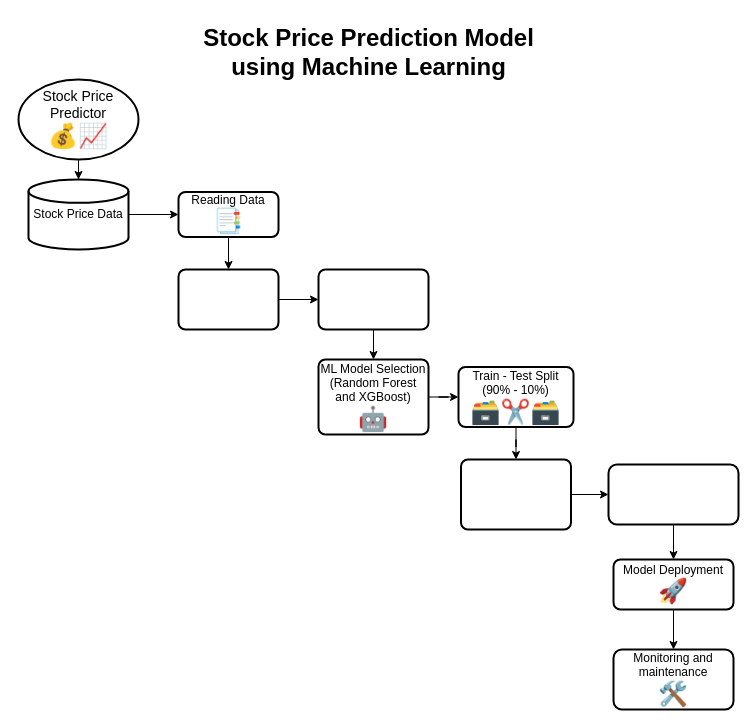
The diagram is 756 pixels wide and 727 high, and some of its shapes have lost their labels. Each missing label, with the centre of its shape:
"Data Preprocessing 🗃️⚙️" belongs at pixel 228 299.
"Evaluating the model (MSE, MAE, RMSE,R2) 🎯" belongs at pixel 673 494.
"Exploratory Data Analysis 🔍📊" belongs at pixel 373 299.
"Model Training 🤖⚙️" belongs at pixel 516 494.
